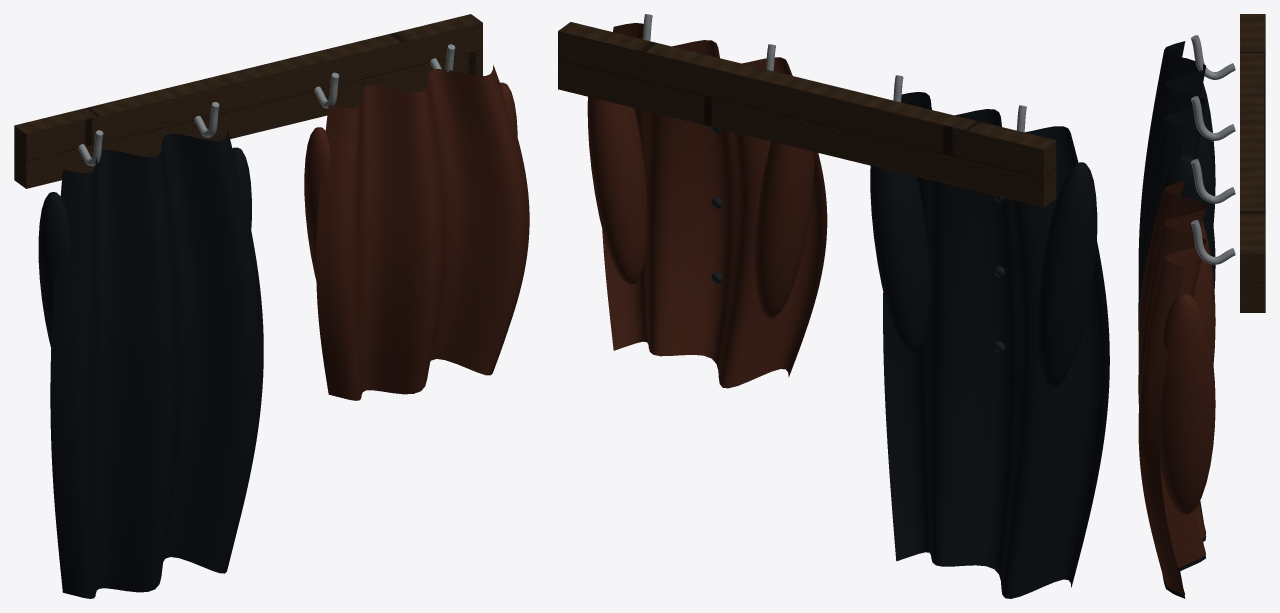
File: hall-coat-rack.glb
3 views of the same model, side by side, from view 1: azimuth 30°, elevation 25°; view 2: azimuth 150°, elevation 25°; view 3: azimuth 270°, elevation 25° (orthographic). The views are drawn at different scales.
Parts seen in each view (by area): view 1: Work coat hanging from hook, Work coat hanging from hook.001, Oak hook board, Soft coat sleeve, Soft coat sleeve.002, Soft coat sleeve.001; view 2: Work coat hanging from hook, Work coat hanging from hook.001, Oak hook board, Soft coat sleeve, Soft coat sleeve.003, Soft coat sleeve.001, Soft coat sleeve.002; view 3: Work coat hanging from hook.001, Soft coat sleeve.003, Oak hook board, Work coat hanging from hook, Soft coat sleeve.001, Soft coat sleeve.002, Soft coat sleeve, Brass coat hook.002, Brass coat hook.001, Brass coat hook.003, Brass coat hook.
Boxes of the visible parts, box(x1,y1,x2,y2) form: Work coat hanging from hook: box(50, 130, 263, 598); Work coat hanging from hook.001: box(316, 65, 529, 400); Oak hook board: box(14, 14, 482, 188); Soft coat sleeve: box(38, 192, 94, 348); Soft coat sleeve.002: box(304, 127, 360, 293); Soft coat sleeve.001: box(212, 147, 251, 320); Work coat hanging from hook: box(883, 92, 1109, 598); Work coat hanging from hook.001: box(602, 23, 827, 388); Oak hook board: box(558, 22, 1056, 207); Soft coat sleeve: box(1037, 162, 1097, 387); Soft coat sleeve.003: box(587, 96, 647, 284); Soft coat sleeve.001: box(870, 166, 929, 353); Soft coat sleeve.002: box(755, 141, 814, 318); Work coat hanging from hook.001: box(1138, 180, 1206, 594); Soft coat sleeve.003: box(1159, 293, 1215, 514); Oak hook board: box(1240, 14, 1265, 312); Work coat hanging from hook: box(1138, 41, 1206, 598); Soft coat sleeve.001: box(1161, 154, 1215, 289); Soft coat sleeve.002: box(1185, 197, 1215, 364); Soft coat sleeve: box(1185, 58, 1215, 224); Brass coat hook.002: box(1191, 159, 1235, 203); Brass coat hook.001: box(1191, 96, 1235, 140); Brass coat hook.003: box(1191, 220, 1235, 264); Brass coat hook: box(1191, 35, 1235, 79).
Size of the model in its own units: 1.28 by 1.18 by 0.2735.
Materials: 5 (3 with a texture image).
